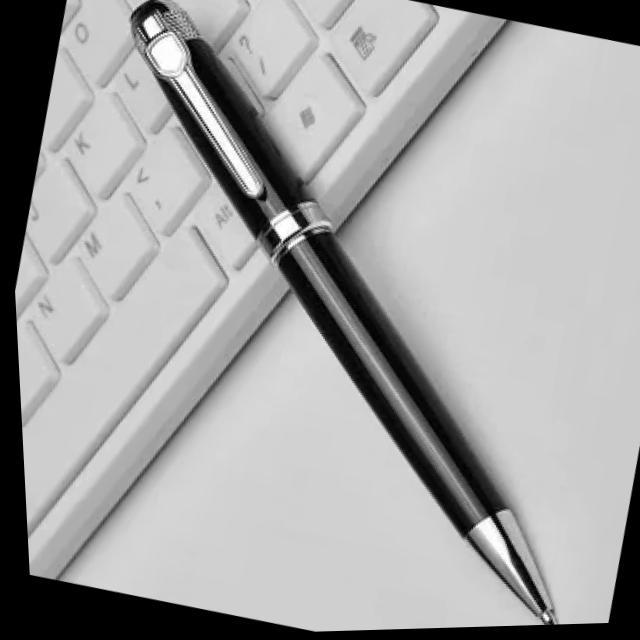pencil: (116, 0, 566, 626)
